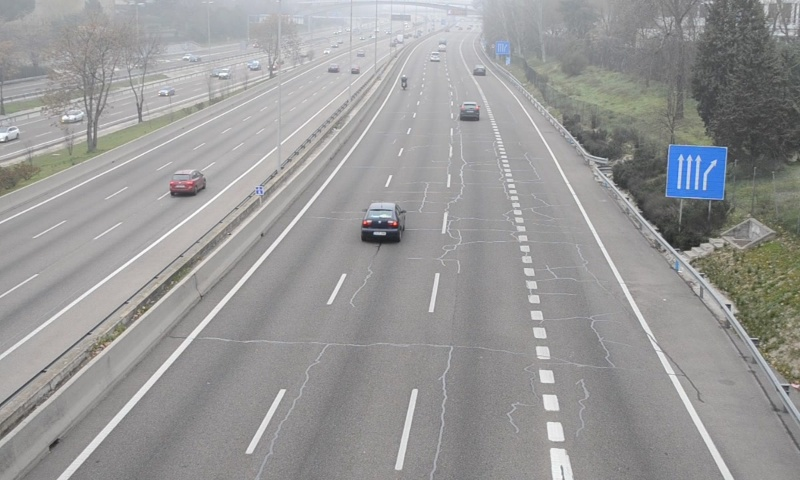car: (362, 202, 404, 243), (459, 101, 481, 122)
motorcycle: (401, 73, 408, 91)
